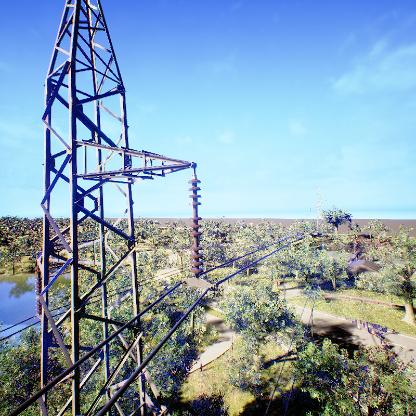insulator: (186, 178, 204, 279)
